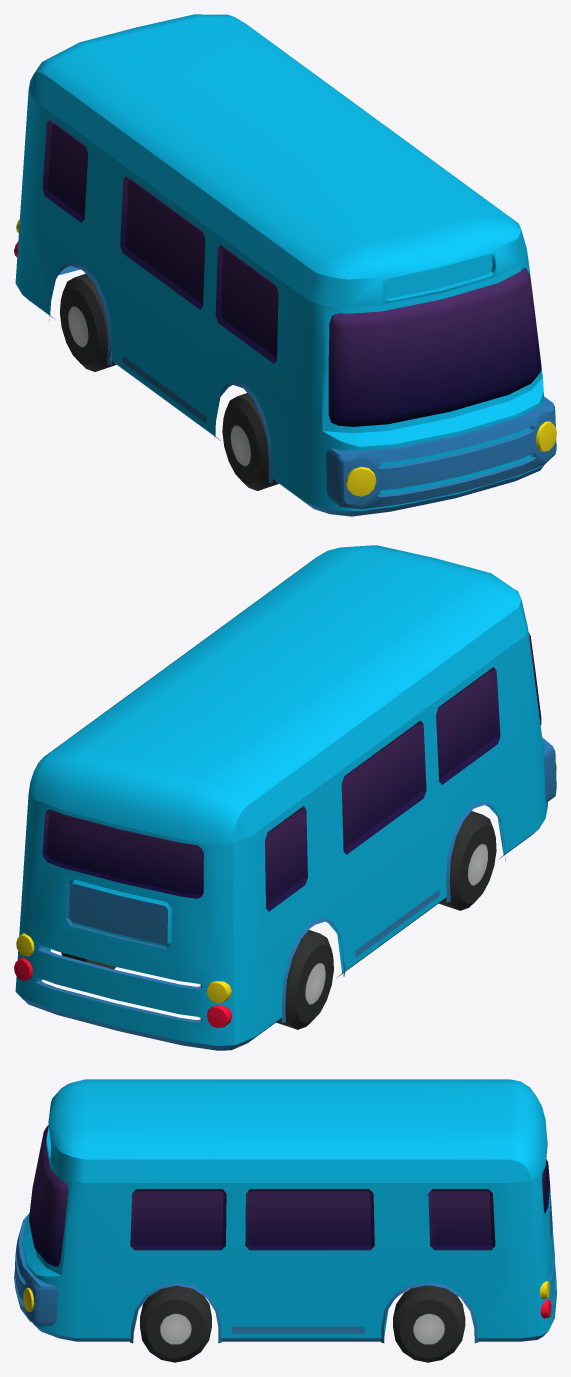
Rendered from SixSeater.fbx.
3 views of the same model, one above another, from view 1: azimuth 30°, elevation 25°; view 2: azimuth 150°, elevation 25°; view 3: azimuth 270°, elevation 25° (orthographic). The views are drawn at different scales.
Visible parts, largest first — view 1: SixSeatee_Body, SixSeater_Removable; view 2: SixSeatee_Body, SixSeater_Removable; view 3: SixSeatee_Body, SixSeater_Removable.
Boxes of the visible parts, box(x1,y1,x2,y2) form: SixSeatee_Body: box(14, 90, 556, 516); SixSeater_Removable: box(28, 14, 527, 307); SixSeatee_Body: box(14, 628, 556, 1050); SixSeater_Removable: box(28, 545, 527, 844); SixSeatee_Body: box(14, 1125, 556, 1362); SixSeater_Removable: box(46, 1079, 547, 1182).
Bounding box in the file's own units: 625 × 681 × 1574.
1 material, 1 textured.
